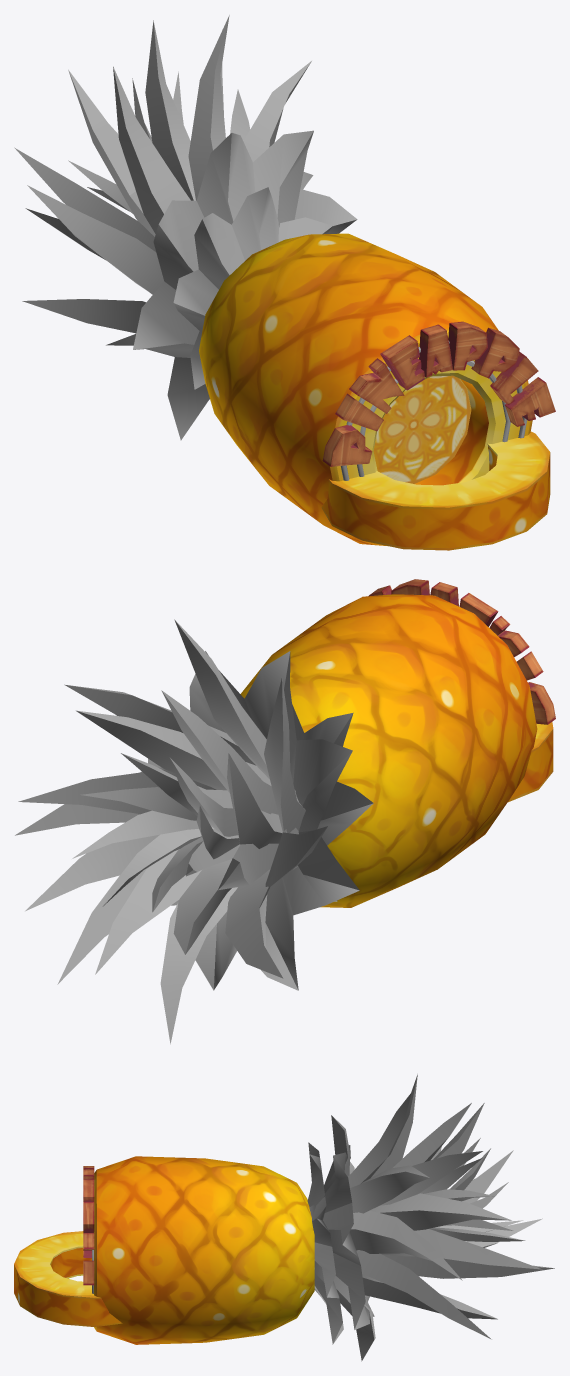
Rendered from BG_PineAppleStore.fbx.
The picture shows the model from 3 angles, top to bottom: view 1: azimuth 30°, elevation 25°; view 2: azimuth 150°, elevation 25°; view 3: azimuth 270°, elevation 25°; orthographic projection. The views are drawn at different scales.
Visible parts, largest first — view 1: Store3, PineAppleLeaf1, Table; view 2: PineAppleLeaf1, Store3, Table; view 3: Store3, PineAppleLeaf1, Table.
Part boxes in pixels (x1,y1,x2,y2): Store3: (199, 233, 555, 546); PineAppleLeaf1: (14, 15, 357, 440); Table: (321, 431, 550, 550); PineAppleLeaf1: (15, 619, 373, 1044); Store3: (240, 579, 555, 907); Table: (508, 722, 553, 802); Store3: (83, 1156, 314, 1344); PineAppleLeaf1: (307, 1074, 554, 1361); Table: (14, 1231, 122, 1326).
Bounding box in the file's own units: 451 × 570 × 1035.
